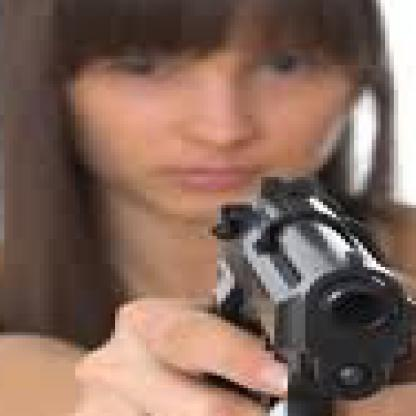gun: (194, 171, 412, 413)
